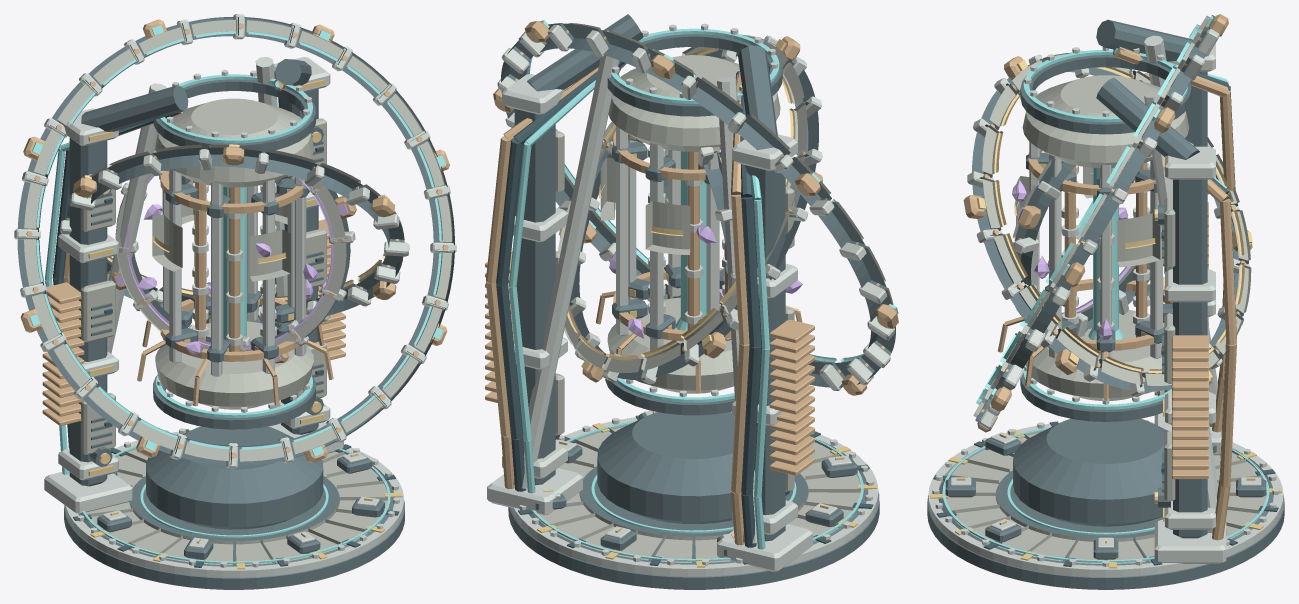
File: temporal_assembly.glb
3 views of the same model, side by side, from view 1: azimuth 30°, elevation 25°; view 2: azimuth 150°, elevation 25°; view 3: azimuth 270°, elevation 25° (orthographic). The views are drawn at different scales.
Parts seen in each view (by area): view 1: Chamber, Platform, Supports, OuterRotor, InnerRotor, FocusRotor, FutureDamage, Cover3, Cover2; view 2: Supports, Platform, Chamber, OuterRotor, InnerRotor, Cover1, FutureDamage, FocusRotor, Cover0; view 3: Platform, Supports, Chamber, InnerRotor, OuterRotor, FocusRotor, Cover0, FutureDamage.
Boxes of the visible parts, left/top/right/bottom form: Chamber: left=153, top=69, right=315, bottom=429; Platform: left=64, top=425, right=404, bottom=589; Supports: left=42, top=57, right=345, bottom=514; OuterRotor: left=14, top=14, right=456, bottom=468; InnerRotor: left=60, top=144, right=409, bottom=323; FocusRotor: left=111, top=173, right=356, bottom=363; FutureDamage: left=137, top=204, right=333, bottom=406; Cover3: left=250, top=229, right=290, bottom=281; Cover2: left=152, top=214, right=182, bottom=271; Supports: left=485, top=14, right=814, bottom=571; Platform: left=508, top=410, right=879, bottom=589; Chamber: left=605, top=23, right=782, bottom=415; OuterRotor: left=493, top=20, right=898, bottom=395; InnerRotor: left=558, top=34, right=822, bottom=384; Cover1: left=645, top=201, right=690, bottom=254; FutureDamage: left=596, top=226, right=802, bottom=393; FocusRotor: left=663, top=147, right=734, bottom=340; Cover0: left=599, top=157, right=615, bottom=220; Platform: left=927, top=418, right=1284, bottom=589; Supports: left=1096, top=19, right=1236, bottom=563; Chamber: left=1020, top=47, right=1191, bottom=421; InnerRotor: left=963, top=50, right=1252, bottom=396; OuterRotor: left=973, top=14, right=1228, bottom=432; FocusRotor: left=1012, top=138, right=1193, bottom=347; Cover0: left=1117, top=213, right=1160, bottom=267; FutureDamage: left=998, top=180, right=1127, bottom=400.
Bounding box in the file's own units: 4.44 × 5.04 × 3.3.
